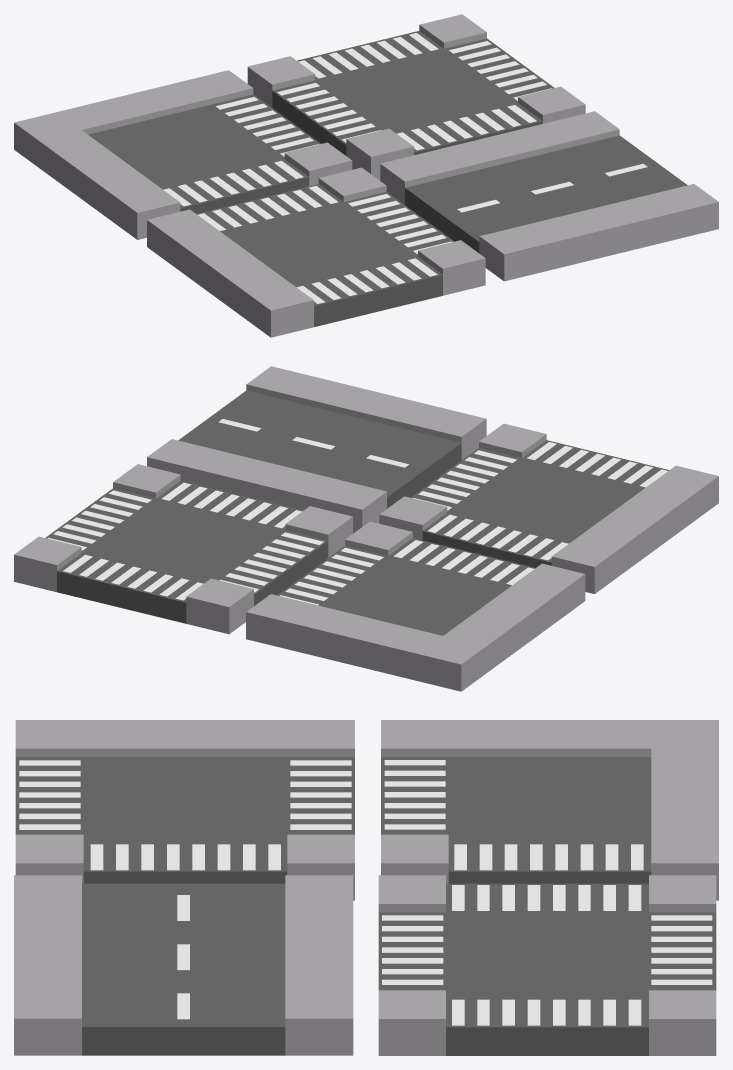
File: main_road_builder.glb
The picture shows the model from 3 angles, top to bottom: view 1: azimuth 30°, elevation 25°; view 2: azimuth 150°, elevation 25°; view 3: azimuth 270°, elevation 25°; orthographic projection. The views are drawn at different scales.
Parts seen in each view (by area): view 1: Road 1, Road 4, Road 3, Road 2; view 2: Road 3, Road 2, Road 4, Road 1; view 3: Road 1, Road 2, Road 4, Road 3.
Part boxes in pixels (x1=…): Road 1: x1=380, y1=111, x2=718, y2=281; Road 4: x1=147, y1=167, x2=485, y2=337; Road 3: x1=14, y1=70, x2=352, y2=239; Road 2: x1=247, y1=14, x2=585, y2=180; Road 3: x1=246, y1=521, x2=585, y2=691; Road 2: x1=14, y1=464, x2=352, y2=634; Road 4: x1=379, y1=423, x2=718, y2=593; Road 1: x1=147, y1=366, x2=486, y2=533; Road 1: x1=14, y1=875, x2=353, y2=1055; Road 2: x1=378, y1=875, x2=716, y2=1055; Road 4: x1=15, y1=720, x2=354, y2=900; Road 3: x1=381, y1=720, x2=718, y2=900.
Bounding box in the file's own units: 0.8447 × 0.0492 × 0.8425.
1 material, 1 textured.
